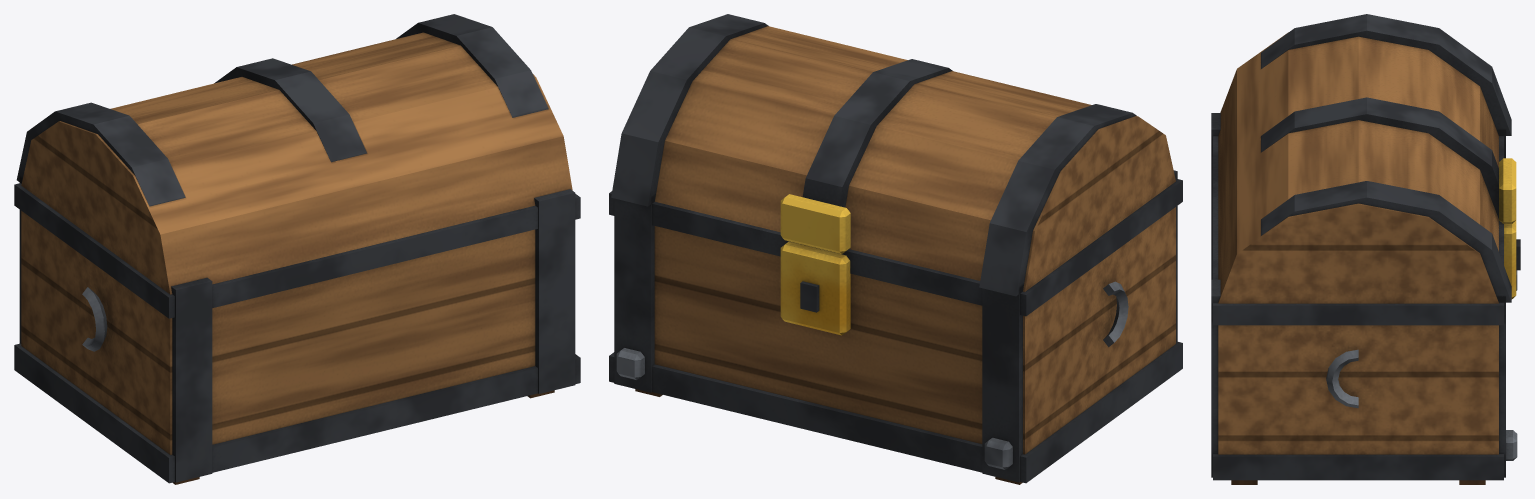
Rendered from cofre_tesoro.fbx.
3 views of the same model, side by side, from view 1: azimuth 30°, elevation 25°; view 2: azimuth 150°, elevation 25°; view 3: azimuth 270°, elevation 25° (orthographic). The views are drawn at different scales.
Parts seen in each view (by area): view 1: cofre_tesoro, cofre_tesoro_tapa; view 2: cofre_tesoro, cofre_tesoro_tapa; view 3: cofre_tesoro_tapa, cofre_tesoro.
Boxes of the visible parts, x1,y1,x2,y2 form: cofre_tesoro: (14,183,580,484); cofre_tesoro_tapa: (16,14,572,294); cofre_tesoro: (609,170,1182,484); cofre_tesoro_tapa: (611,14,1175,296); cofre_tesoro_tapa: (1218,14,1516,303); cofre_tesoro: (1211,113,1520,484).
Size of the model in its own units: 5.34 by 3.68 by 3.53.
Materials: 1 (1 with a texture image).
